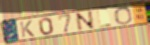0: (38, 16, 56, 36)
7: (57, 13, 73, 34)
K: (19, 20, 36, 39)
L: (95, 10, 113, 29)
N: (75, 10, 97, 32)
O: (114, 6, 134, 26)
